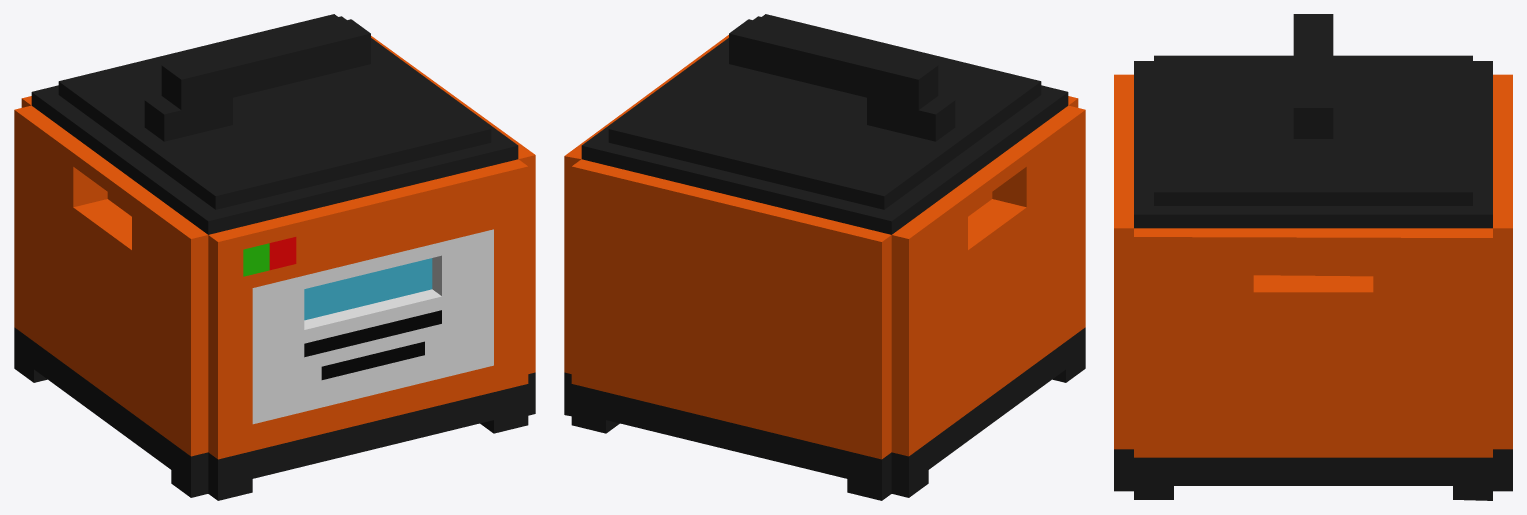
The model's file is Rice Cooker.fbx.
3 views of the same model, side by side, from view 1: azimuth 30°, elevation 25°; view 2: azimuth 150°, elevation 25°; view 3: azimuth 270°, elevation 25° (orthographic).
Visible parts, largest first — view 1: Rice cooker; view 2: Rice cooker; view 3: Rice cooker.
Part boxes in pixels (box(x1,y1,x2,y2)): Rice cooker: box(14, 14, 535, 500); Rice cooker: box(564, 14, 1085, 500); Rice cooker: box(1114, 14, 1512, 500).
Size of the model in its own units: 0.2218 by 0.2121 by 0.2189.
